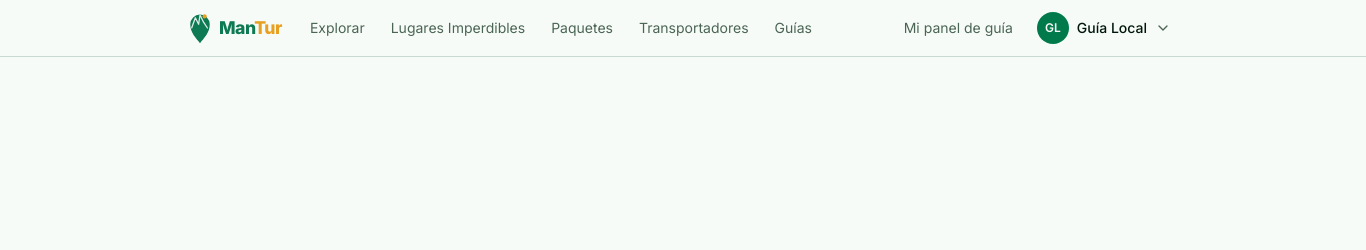
Scenario: PublicNav — tourist_guide › shows the guide panel link inline and Cerrar sesión inside the avatar menu
Click the button "GL Guía Local".
click(1104, 28)  # box [1029, 6, 1179, 50]
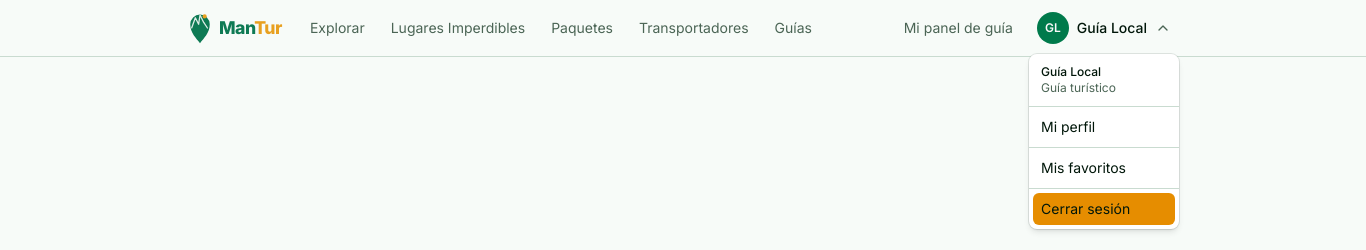
Now the button "Cerrar sesión" is shown, box [1041, 199, 1167, 219]
Now the text "Guía turístico" is shown, box [1041, 80, 1116, 95]
